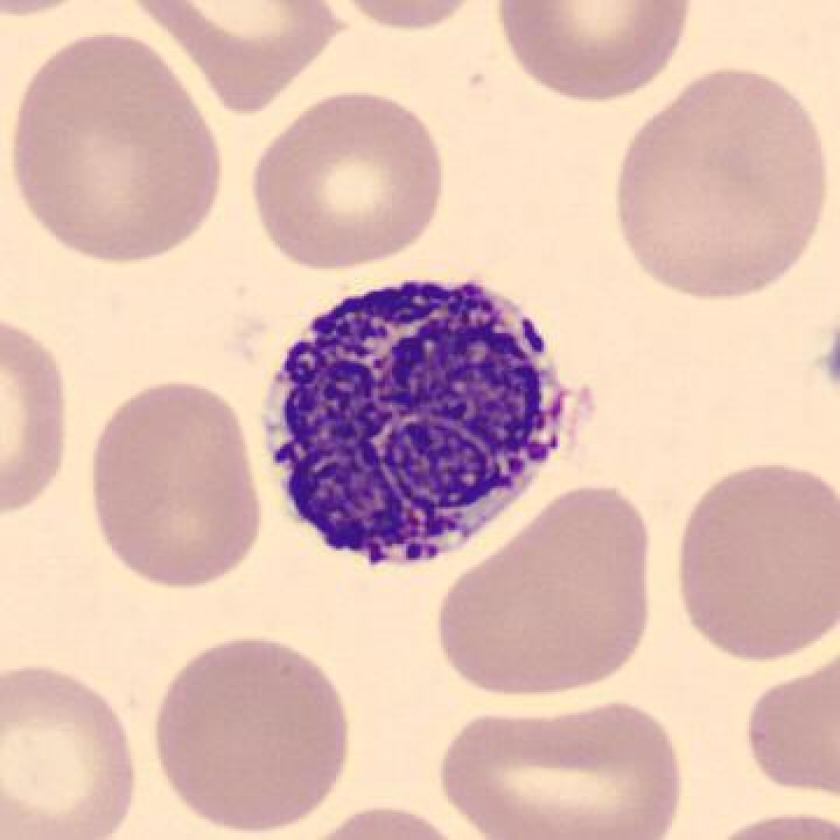basophil: (260, 274, 570, 568)
